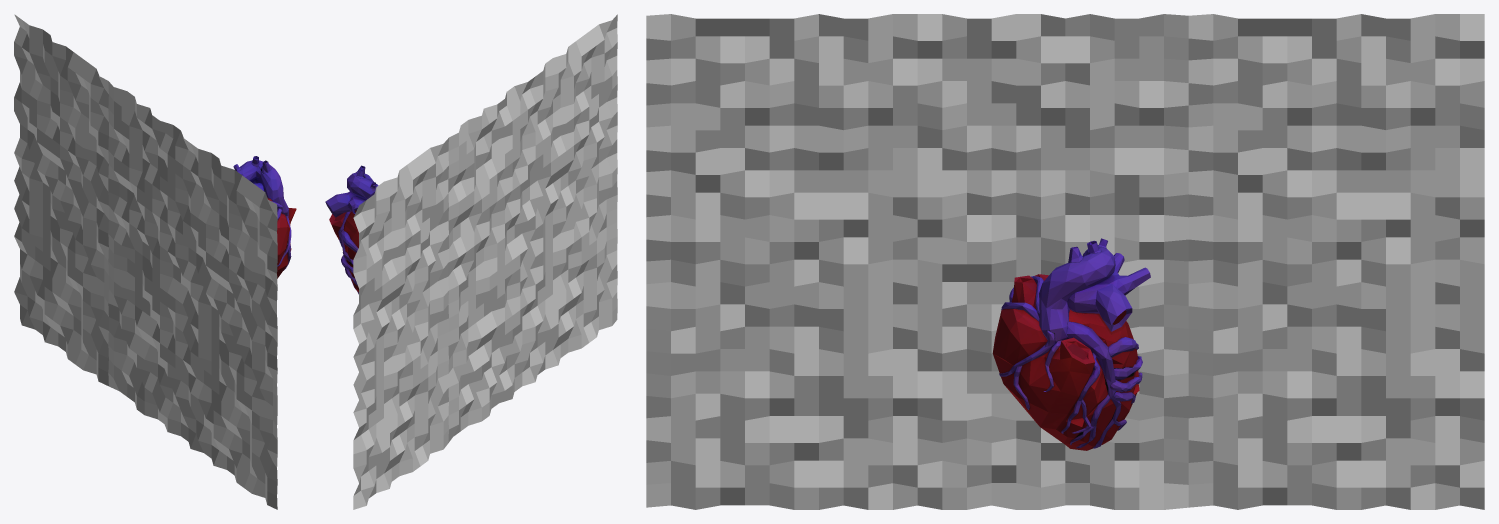
Rendered from Heart_.gltf.
The picture shows the model from 3 angles, left to right: view 1: azimuth 30°, elevation 25°; view 2: azimuth 150°, elevation 25°; view 3: azimuth 270°, elevation 25°; orthographic projection. The views are drawn at different scales.
Parts seen in each view (by area): view 1: node-0; view 2: node-0; view 3: node-0.
Part boxes in pixels (left/top/right/bottom): node-0: left=14, top=14, right=296, bottom=509; node-0: left=325, top=14, right=617, bottom=509; node-0: left=646, top=14, right=1484, bottom=509.
Bounding box in the file's own units: 14.81 × 28.03 × 43.33.
